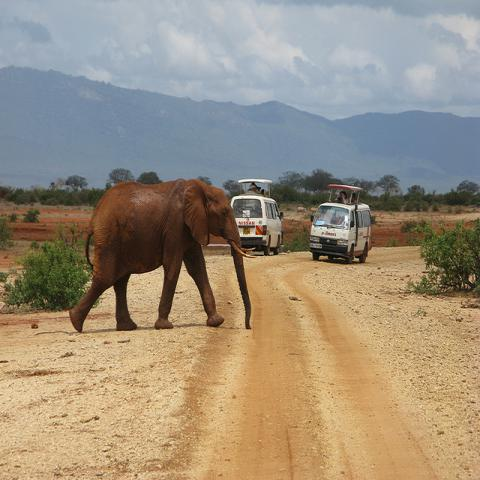car: (308, 184, 373, 266), (232, 194, 281, 255)
